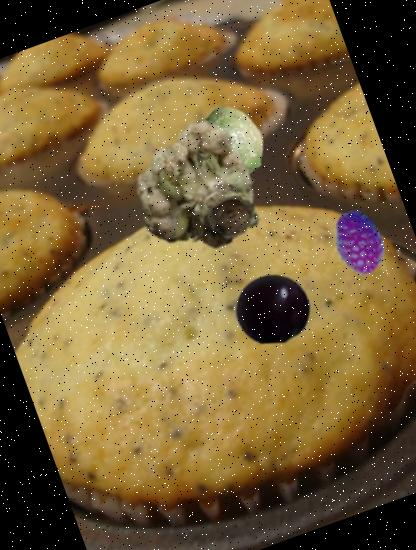Cauliflower: (114, 109, 278, 273)
Cherry: (225, 260, 321, 356)
Limes: (177, 95, 277, 196)
Raspberry: (316, 200, 401, 285)
